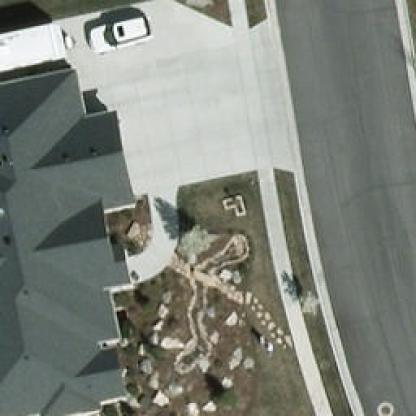camping car: (0, 20, 83, 80)
car: (84, 13, 156, 54)
